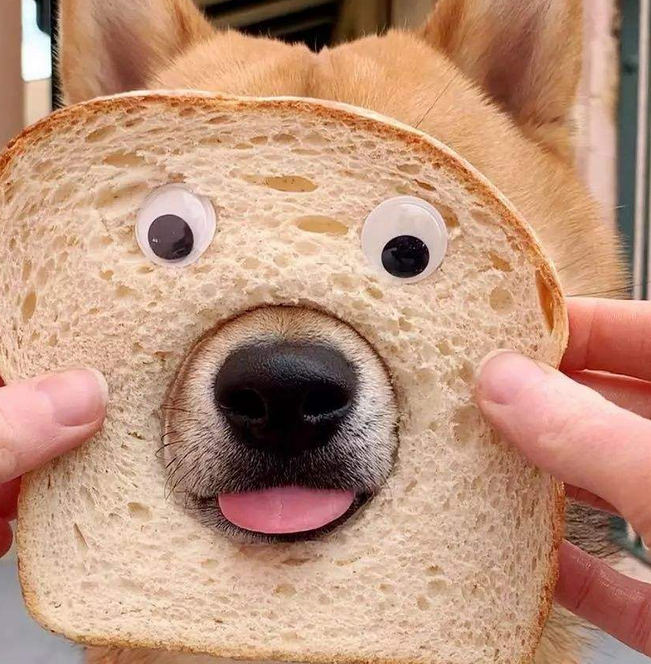nose: (211, 342, 365, 449)
